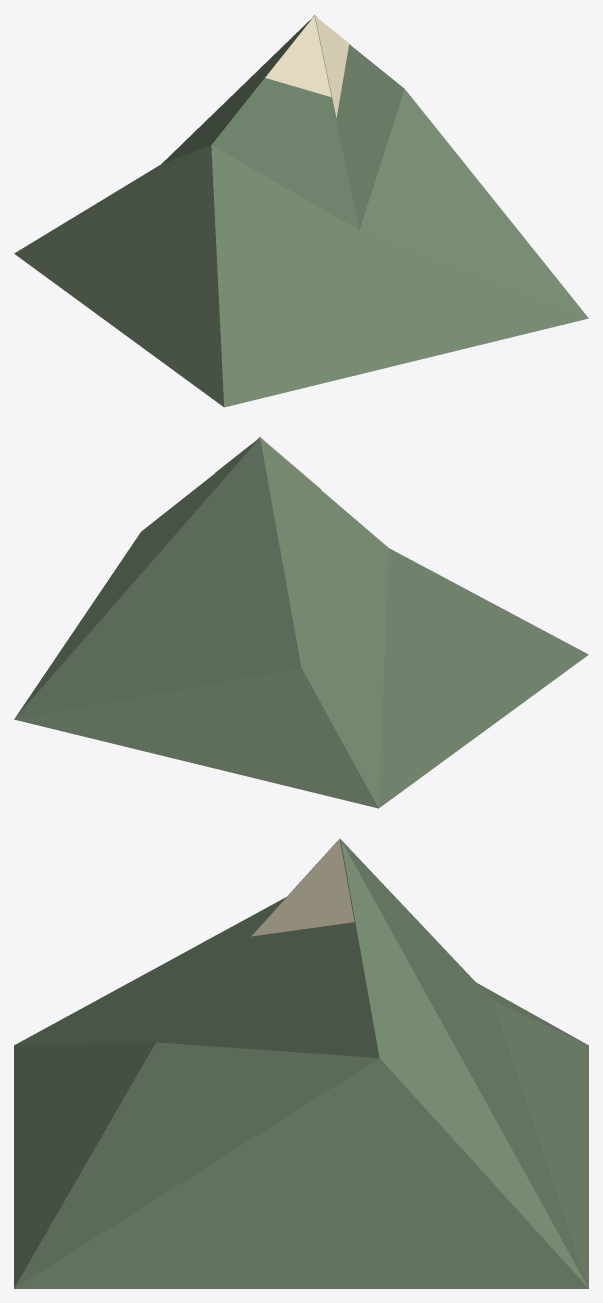
Rendered from X001_paper_mountain_rebuilt.glb.
3 views of the same model, one above another, from view 1: azimuth 30°, elevation 25°; view 2: azimuth 150°, elevation 25°; view 3: azimuth 270°, elevation 25° (orthographic). The views are drawn at different scales.
Parts seen in each view (by area): view 1: Painted_scenic_green_cardboard, cream; view 2: Painted_scenic_green_cardboard; view 3: Painted_scenic_green_cardboard, cream.
Boxes of the visible parts, x1=… form: Painted_scenic_green_cardboard: x1=14, y1=16, x2=588, y2=407; cream: x1=265, y1=14, x2=349, y2=117; Painted_scenic_green_cardboard: x1=14, y1=438, x2=588, y2=808; Painted_scenic_green_cardboard: x1=14, y1=839, x2=588, y2=1288; cream: x1=251, y1=837, x2=354, y2=936.
Size of the model in its own units: 1.98 by 1.32 by 1.98.
